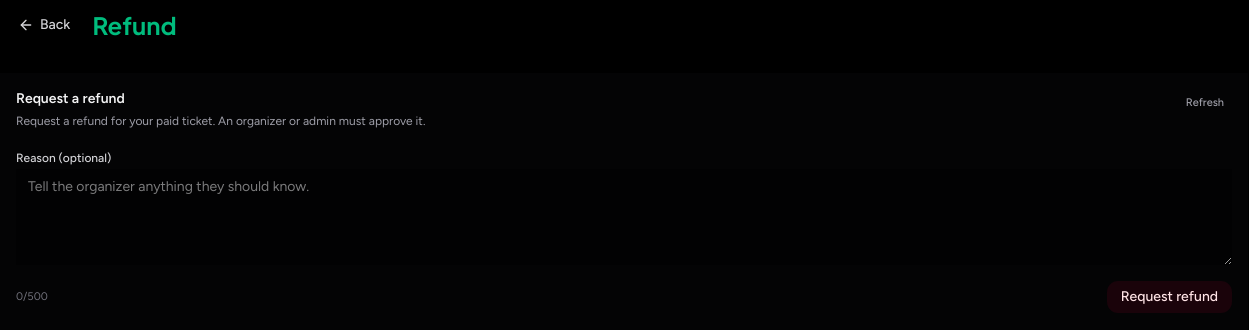
Scenario: RefundMenuView › submits the refund request with the captured payment id
This screenshot has width=1249, height=330.
Expected: the text "Reason (optional)" is shown, [16,151,111,165]
Type "Need to cancel" into the text box labelled "Reason (optional)" at (624, 217), box [16,169,1232,265]
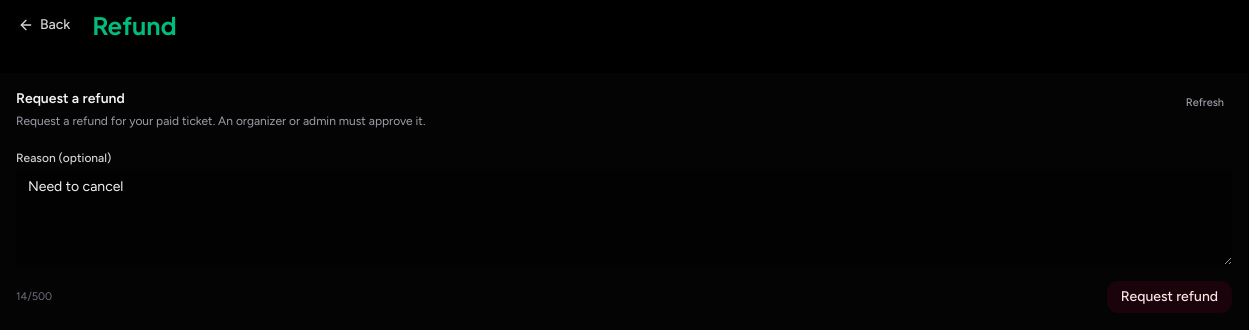
Click the button "Request refund" at (1169, 297), box [1107,281,1232,313]
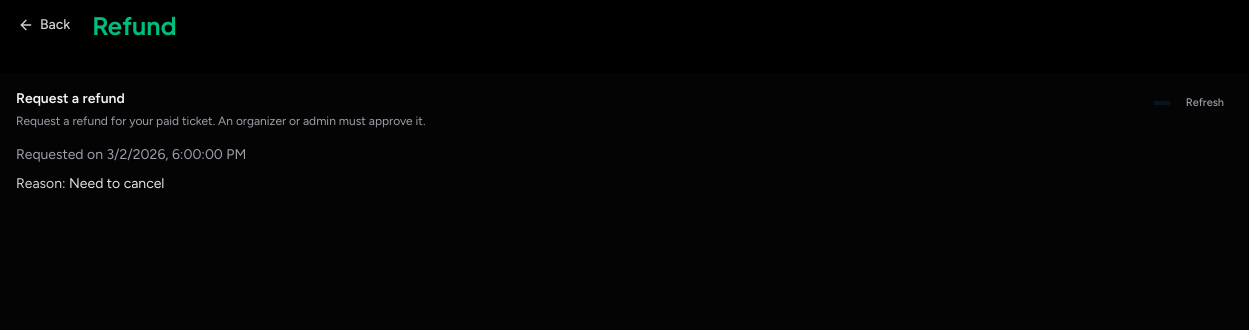
Expected: the text "Requested on 3/2/2026, 6:00:00 PM" is shown, [16,146,246,163]
